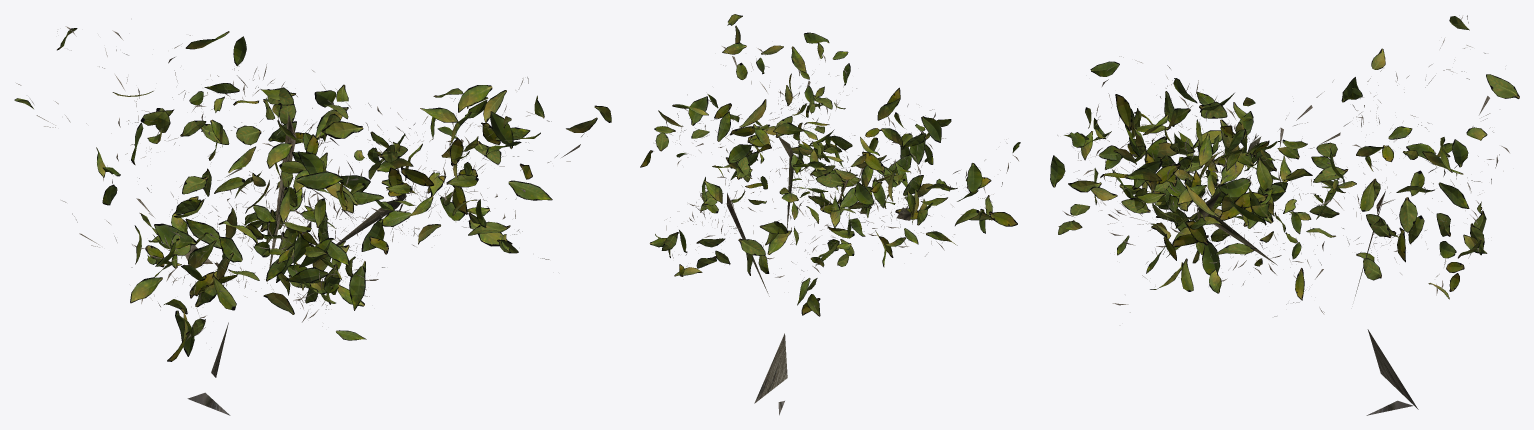
The model's file is tree.glb.
The picture shows the model from 3 angles, left to right: view 1: azimuth 30°, elevation 25°; view 2: azimuth 150°, elevation 25°; view 3: azimuth 270°, elevation 25°; orthographic projection. The views are drawn at different scales.
Visible parts, largest first — view 1: TreeWeb_leaves, TreeWeb_wood; view 2: TreeWeb_leaves, TreeWeb_wood; view 3: TreeWeb_leaves, TreeWeb_wood.
Boxes of the visible parts, box(x1,y1,x2,y2) form: TreeWeb_leaves: box(14, 28, 611, 361); TreeWeb_wood: box(16, 26, 590, 415); TreeWeb_leaves: box(640, 14, 1020, 316); TreeWeb_wood: box(655, 30, 1018, 415); TreeWeb_leaves: box(1050, 16, 1519, 300); TreeWeb_wood: box(1057, 15, 1509, 415).
Size of the model in its own units: 10.3 by 8.95 by 10.63.
3 materials, 3 textured.
